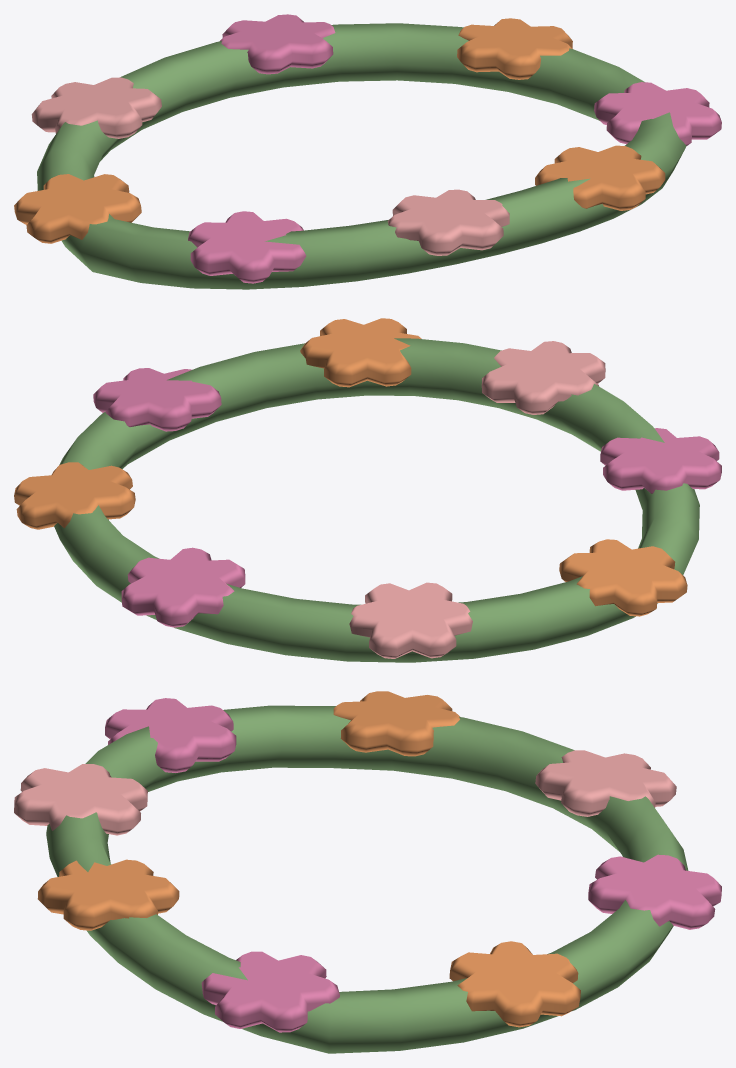
The model's file is chic_tulip_crown.glb.
3 views of the same model, one above another, from view 1: azimuth 30°, elevation 25°; view 2: azimuth 150°, elevation 25°; view 3: azimuth 270°, elevation 25° (orthographic). The views are drawn at different scales.
Visible parts, largest first — view 1: chic_tulip_crown_Head; view 2: chic_tulip_crown_Head; view 3: chic_tulip_crown_Head.
Part boxes in pixels (bbox=[...]): chic_tulip_crown_Head: bbox=[14, 14, 721, 289]; chic_tulip_crown_Head: bbox=[14, 318, 721, 662]; chic_tulip_crown_Head: bbox=[14, 691, 721, 1053].
Bounding box in the file's own units: 0.5576 × 0.0753 × 0.5003.
